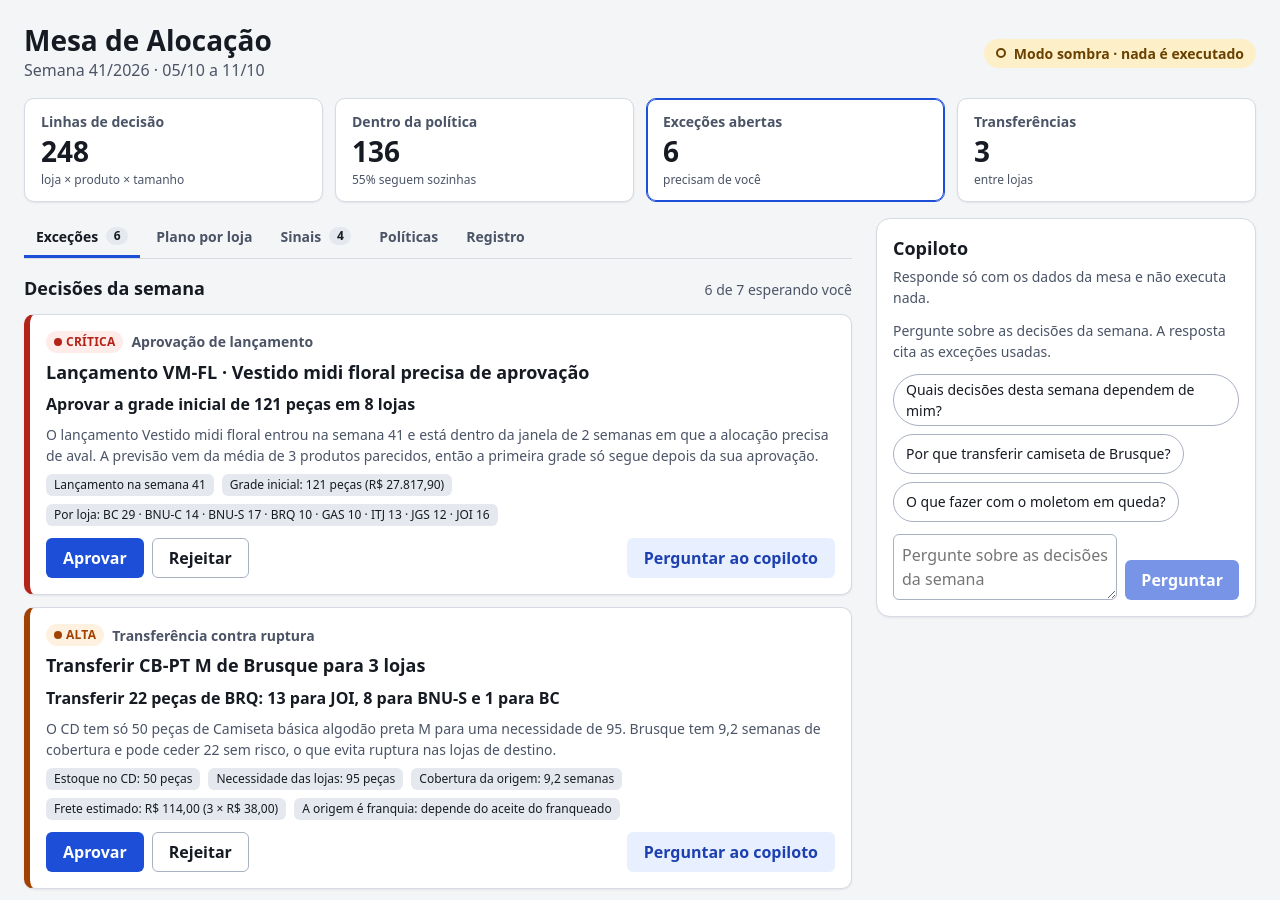
Test: AllocationDesk › mostra políticas e registro quando abro as abas
Click the tab "Políticas" at coordinates (409, 238), box top-left (367, 218), bottom-right (450, 258)
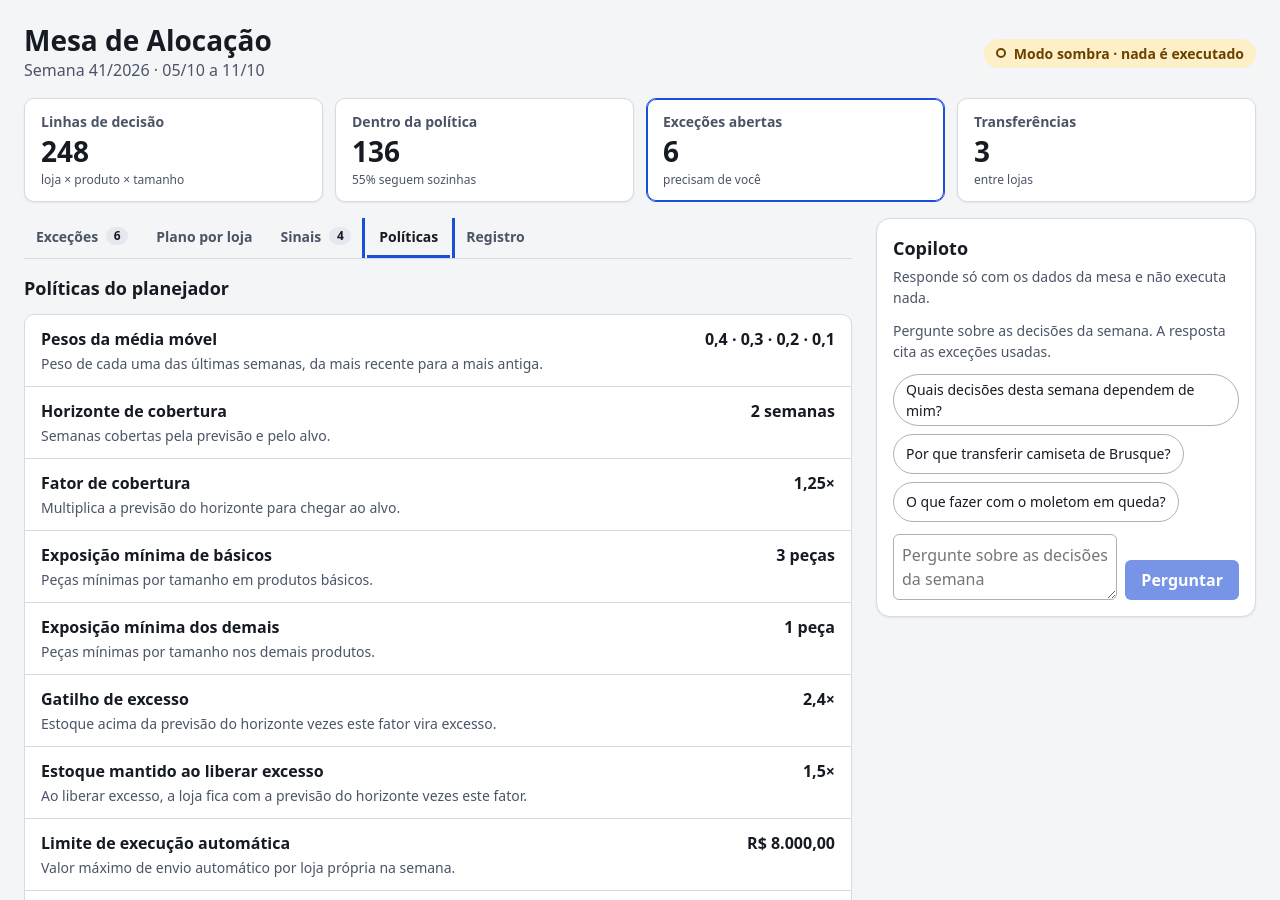
Click the tab "Registro" at coordinates (496, 238), box top-left (454, 218), bottom-right (537, 258)
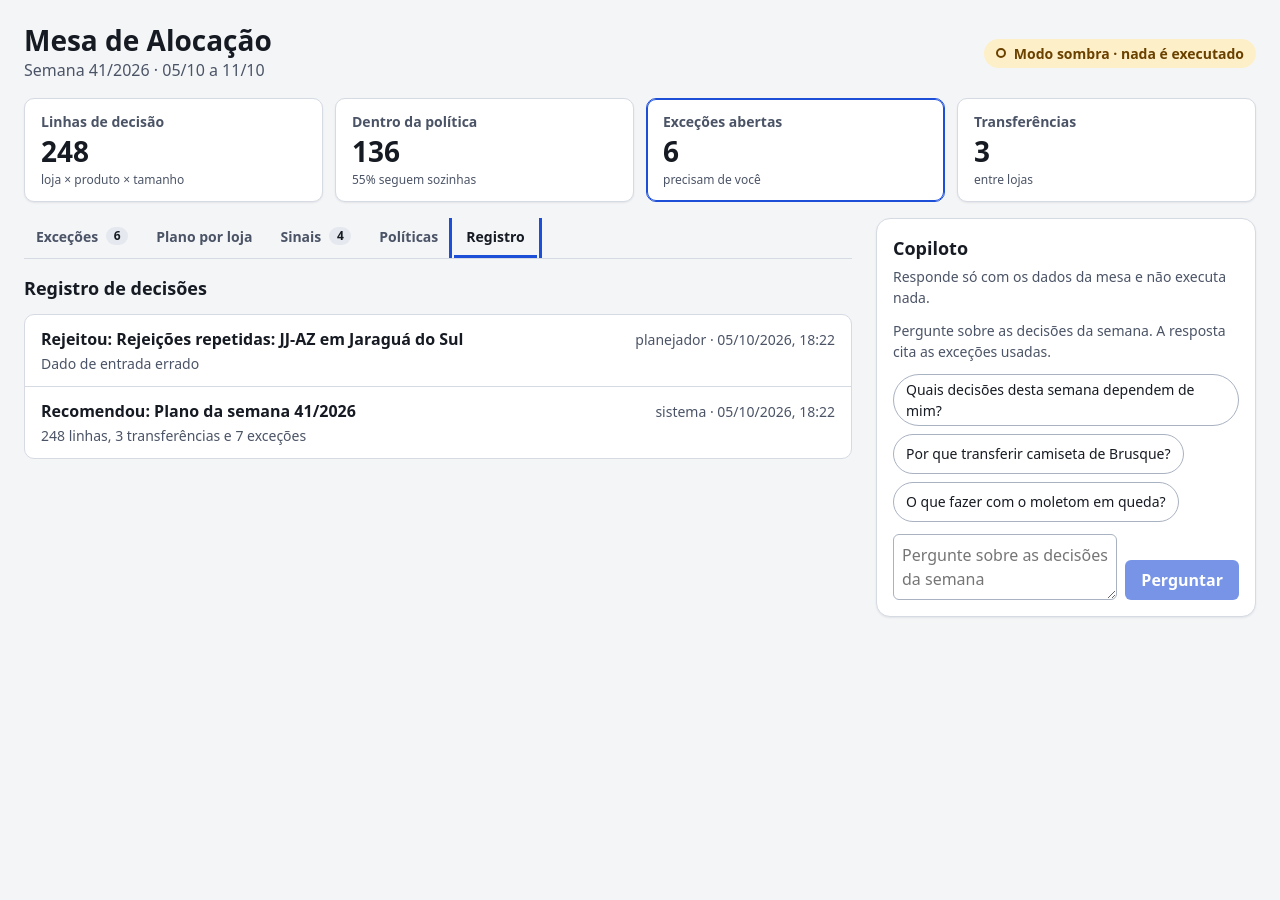
Result: the list item with test id "audit-item" that starts with "Rejeitou" is shown at top-left (25, 315), bottom-right (851, 387)
